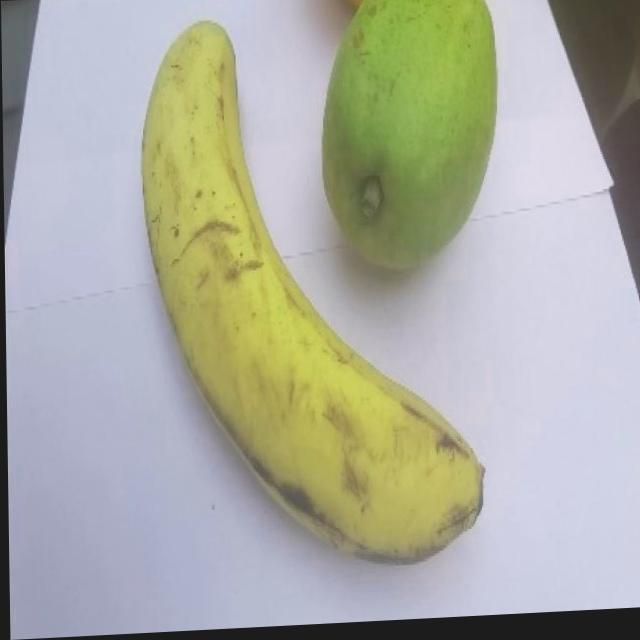Banana: (137, 10, 485, 579)
